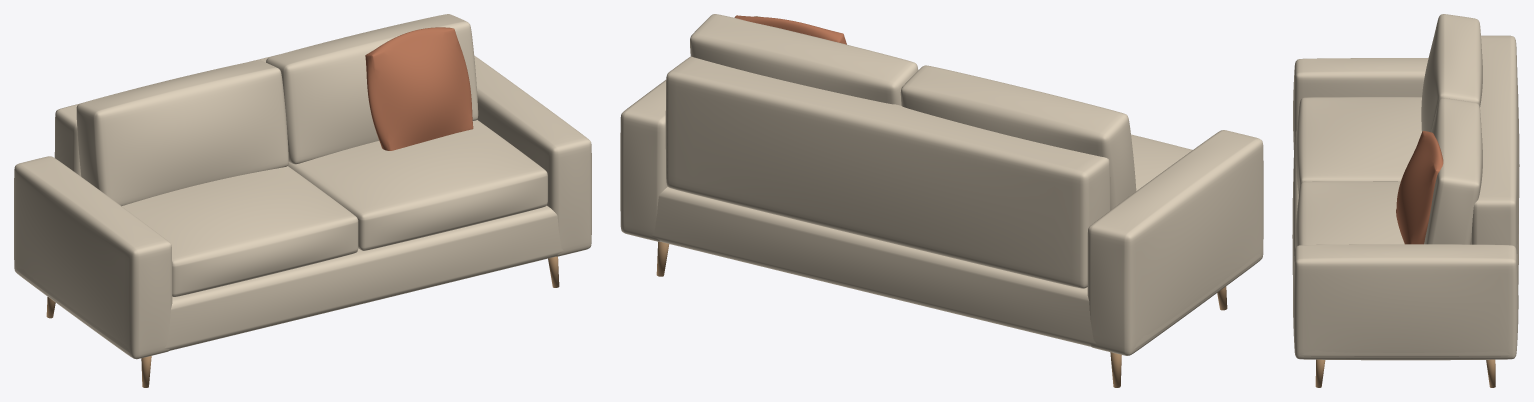
The model's file is sofa.glb.
3 views of the same model, side by side, from view 1: azimuth 30°, elevation 25°; view 2: azimuth 150°, elevation 25°; view 3: azimuth 270°, elevation 25° (orthographic). The views are drawn at different scales.
Visible parts, largest first — view 1: BackCushion_L, Base, Arm_L, SeatCushion_R, SeatCushion_L, BackCushion_R, Pillow, Arm_R, Back; view 2: Back, Arm_L, Base, BackCushion_L, BackCushion_R, Arm_R, SeatCushion_L, Pillow; view 3: Arm_R, SeatCushion_L, Back, BackCushion_R, SeatCushion_R, Arm_L, BackCushion_L, Pillow, Base, Leg_BR, Leg_FR.
Part boxes in pixels (x1,y1,x2,y2): BackCushion_L: (76,60,288,206); Base: (15,205,563,353); Arm_L: (14,156,172,359); SeatCushion_R: (288,120,547,250); SeatCushion_L: (122,166,358,296); BackCushion_R: (266,14,478,164); Pillow: (365,27,473,150); Arm_R: (474,56,591,256); Back: (54,55,276,176); Back: (665,56,1110,288); Arm_L: (1087,130,1263,355); Base: (651,187,1261,349); BackCushion_L: (900,65,1136,210); BackCushion_R: (690,14,918,105); Arm_R: (620,16,760,241); SeatCushion_L: (1131,134,1192,190); Pillow: (734,15,846,44); Arm_R: (1293,244,1518,360); SeatCushion_L: (1295,97,1421,195); Back: (1471,35,1519,258); BackCushion_R: (1424,98,1482,244); SeatCushion_R: (1295,181,1404,247); Arm_L: (1293,58,1518,149); BackCushion_L: (1421,14,1482,132); Pillow: (1396,131,1443,244); Base: (1292,131,1518,356); Leg_BR: (1486,359,1495,387); Leg_FR: (1315,359,1325,387).
Bounding box in the file's own units: 1.94 × 0.9048 × 0.9011.
